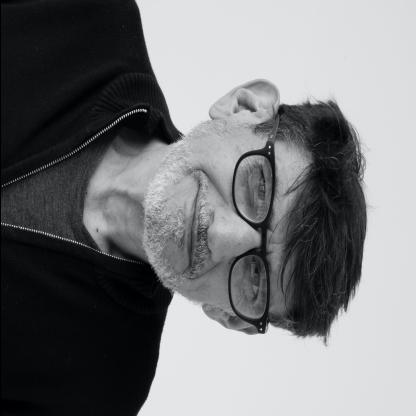Eye: (247, 166, 267, 219), (241, 258, 261, 308)
Mouth: (182, 178, 202, 274)
Nose: (206, 208, 259, 264)
